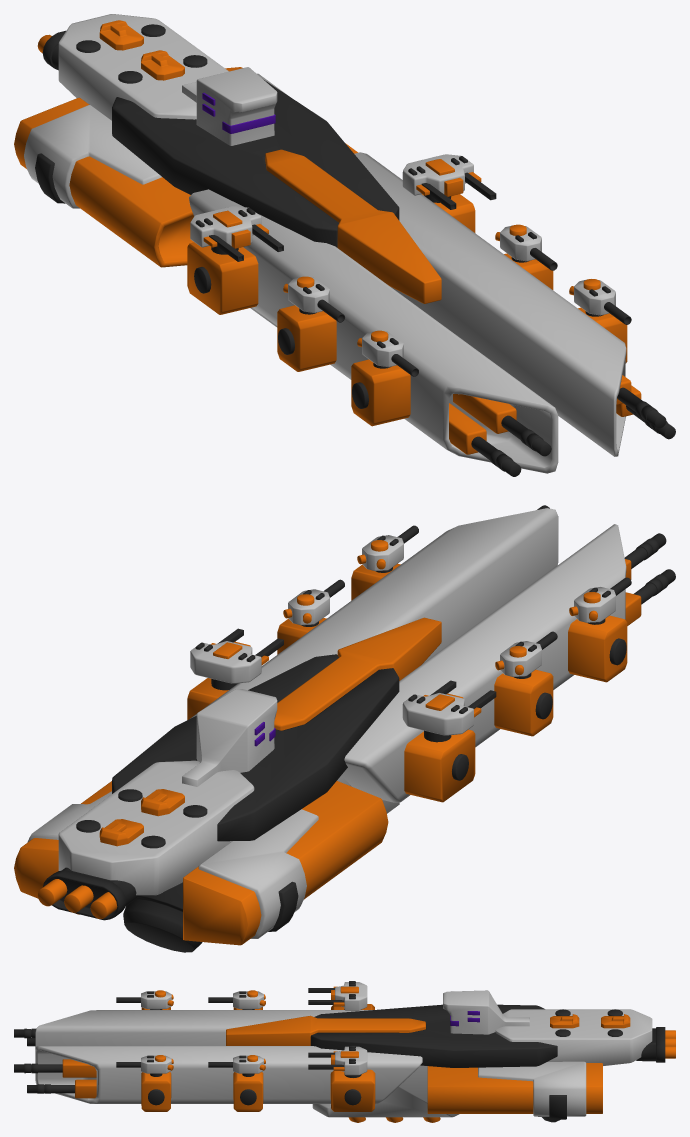
3 views of the same model, one above another, from view 1: azimuth 30°, elevation 25°; view 2: azimuth 150°, elevation 25°; view 3: azimuth 270°, elevation 25° (orthographic). The views are drawn at different scales.
Parts seen in each view (by area): view 1: Destroyer_3.003; view 2: Destroyer_3.003; view 3: Destroyer_3.003.
Boxes of the visible parts, bbox=[...] form: Destroyer_3.003: bbox=[14, 14, 675, 476]; Destroyer_3.003: bbox=[14, 505, 675, 952]; Destroyer_3.003: bbox=[14, 981, 675, 1122].
Size of the model in its own units: 21.99 by 15.27 by 74.22.
